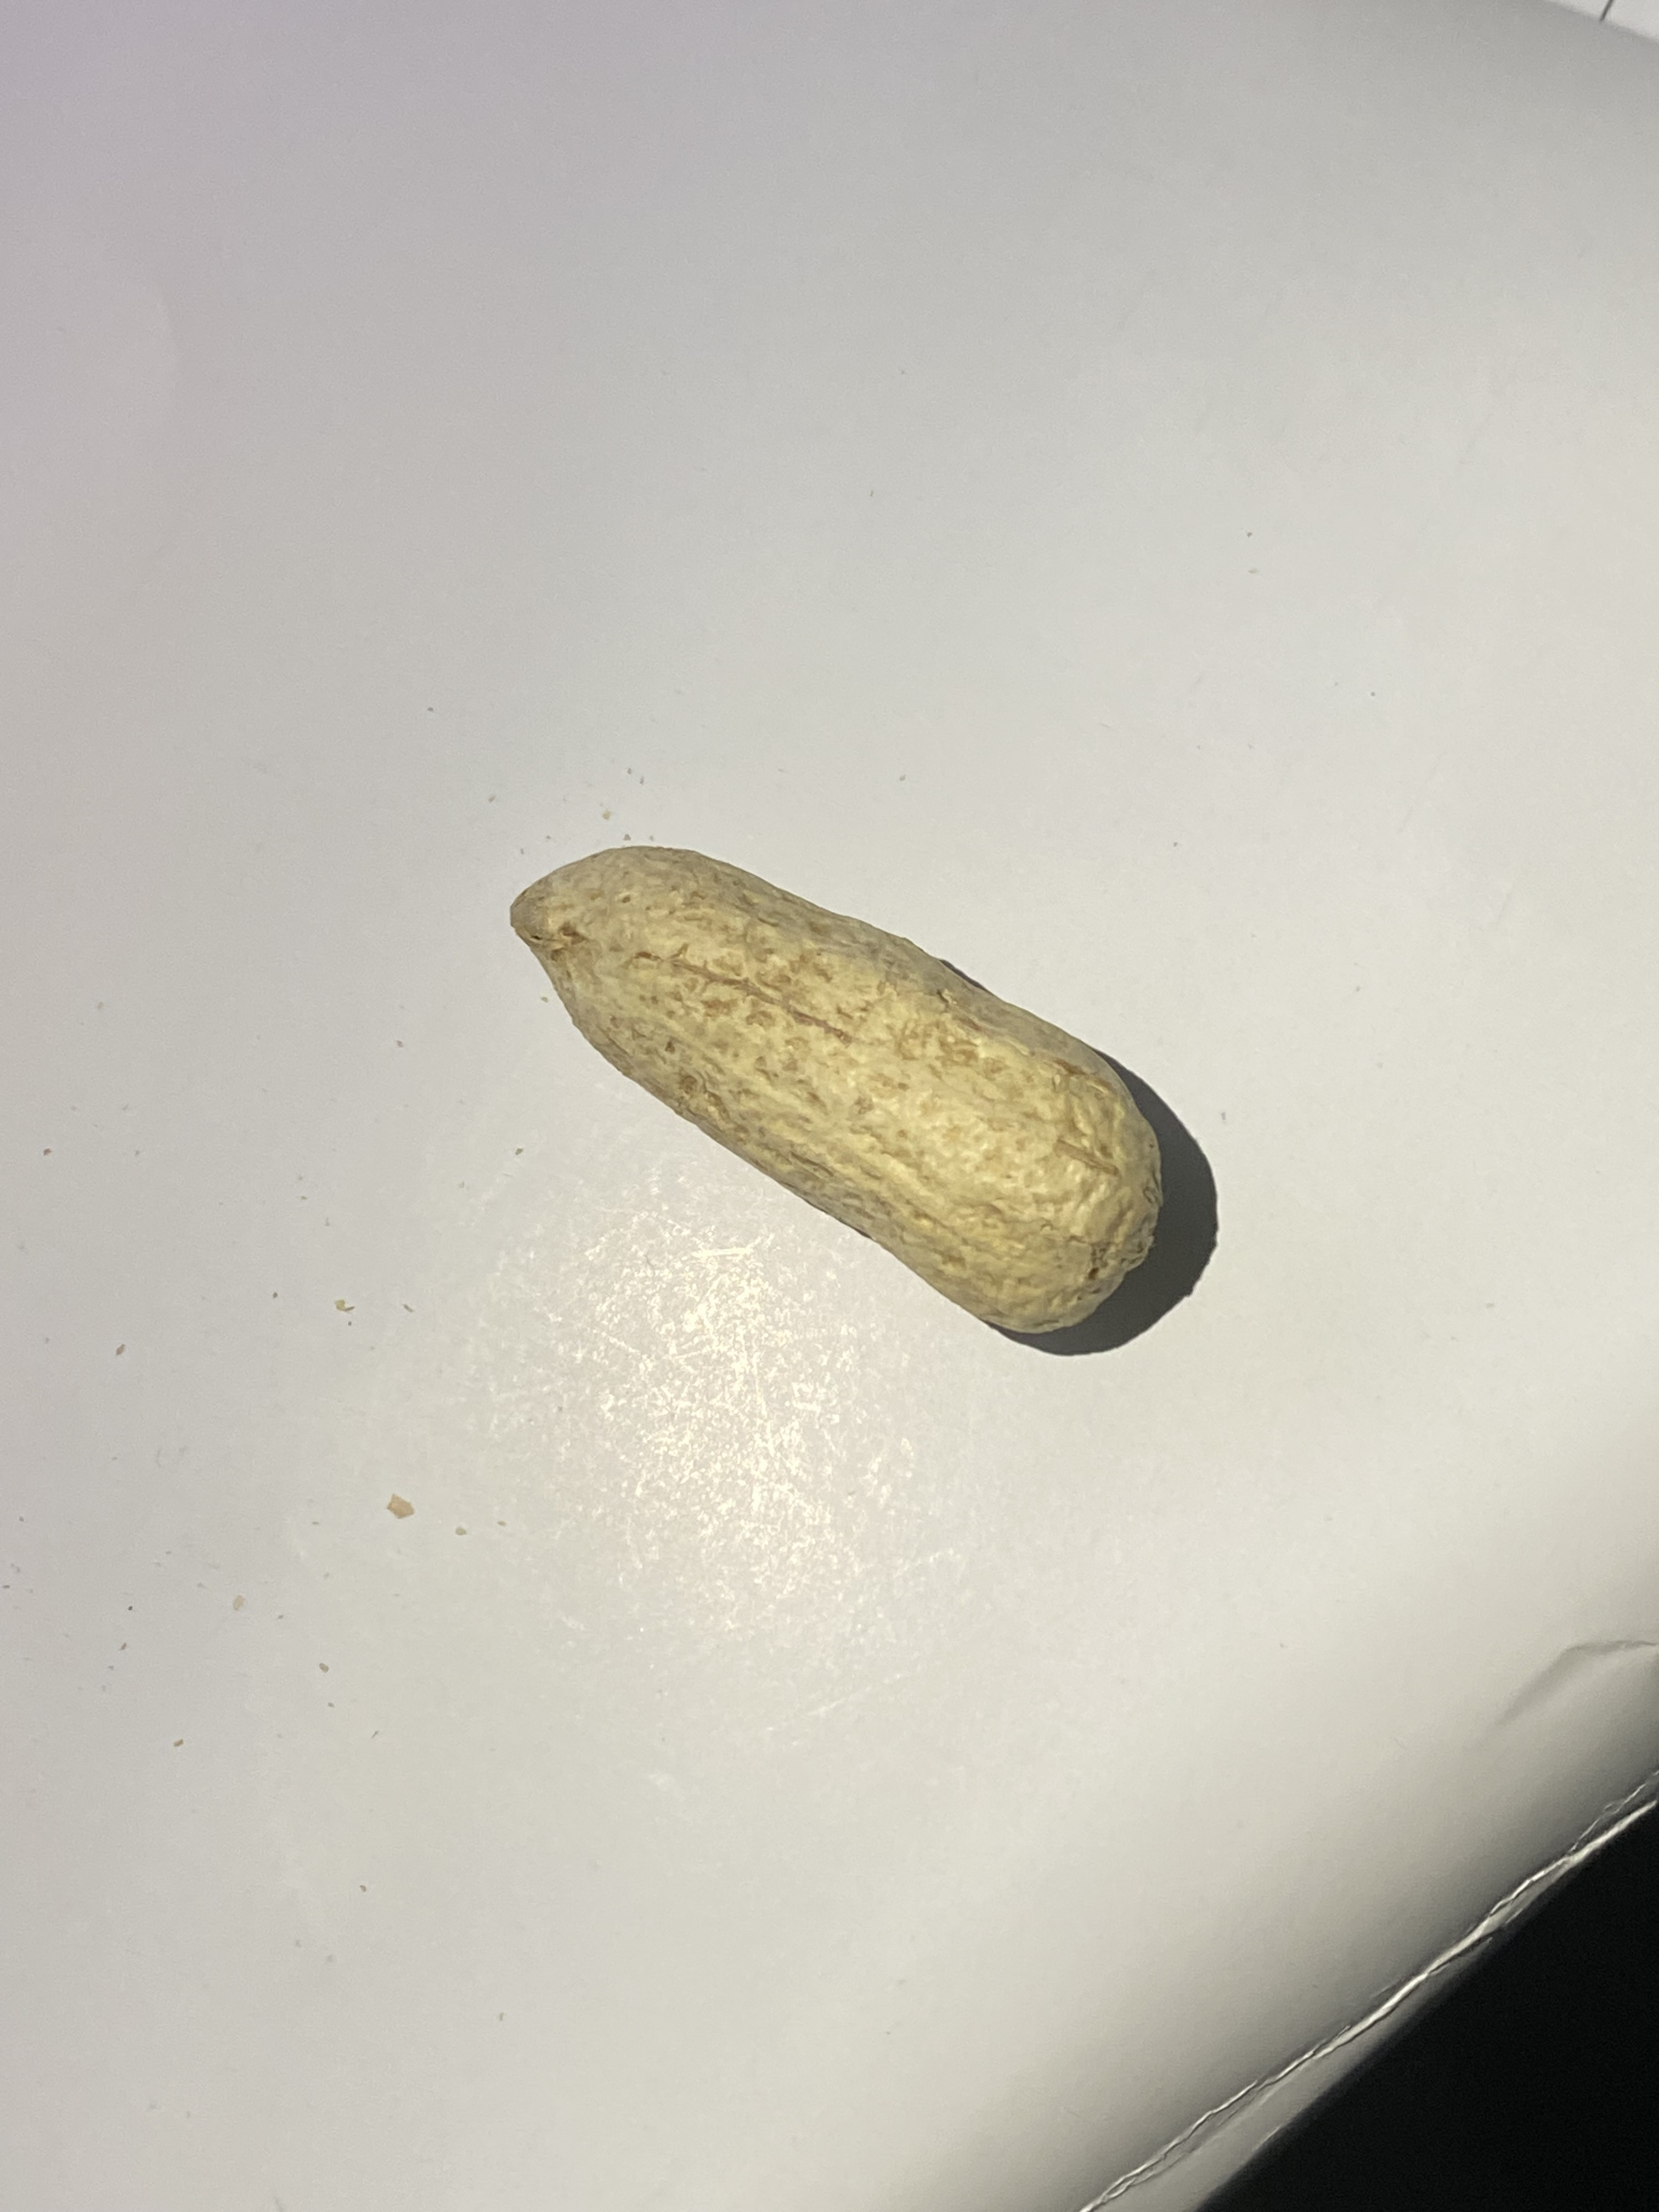kacang3: (477, 833, 1171, 1346)
